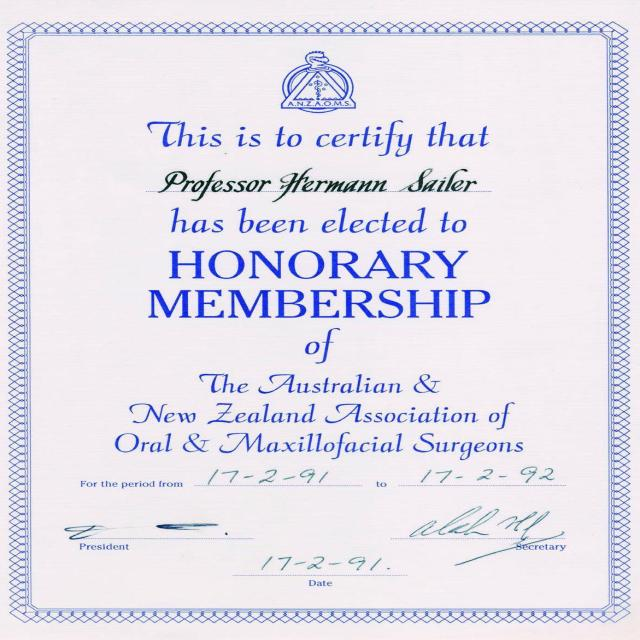signature: (413, 500, 566, 568), (62, 514, 234, 540)
